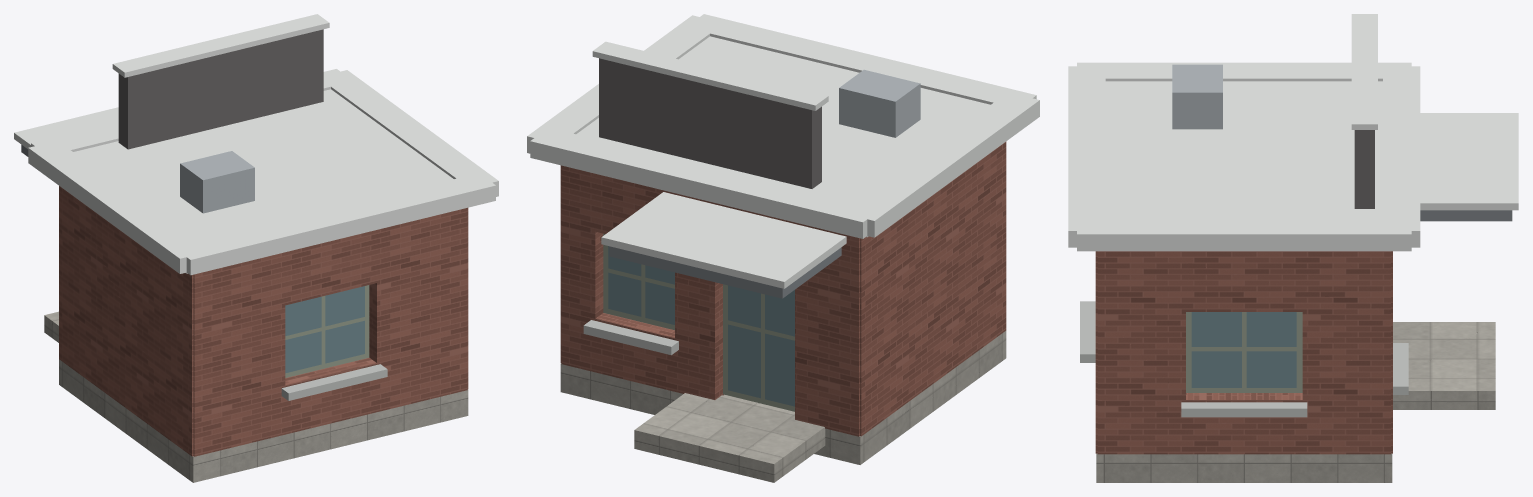
3 renders of one model, left to right at view 1: azimuth 30°, elevation 25°; view 2: azimuth 150°, elevation 25°; view 3: azimuth 270°, elevation 25°, orthographic. The views are drawn at different scales.
Parts seen in each view (by area): view 1: guard__guardbrick, guard__cap, guard__darkframe, guard__stone, guard__glass, guard__metalroof, guard__sill, guard__frame; view 2: guard__cap, guard__guardbrick, guard__darkframe, guard__threshold-front, guard__glass, guard__stone, guard__metalroof, guard__frame, guard__entrance, guard__sill; view 3: guard__cap, guard__guardbrick, guard__stone, guard__threshold-front, guard__glass, guard__sill, guard__metalroof, guard__frame, guard__darkframe, guard__entrance.
Part boxes in pixels (<box>): guard__guardbrick: <box>59,186,468,456</box>; guard__cap: <box>14,14,498,275</box>; guard__darkframe: <box>118,29,323,149</box>; guard__stone: <box>59,359,468,482</box>; guard__glass: <box>285,286,364,373</box>; guard__metalroof: <box>180,151,254,213</box>; guard__sill: <box>281,364,387,400</box>; guard__frame: <box>285,285,369,377</box>; guard__cap: <box>527,14,1039,288</box>; guard__guardbrick: <box>560,141,1006,436</box>; guard__darkframe: <box>599,58,821,188</box>; guard__threshold-front: <box>634,393,825,482</box>; guard__glass: <box>608,246,794,406</box>; guard__stone: <box>560,331,1006,464</box>; guard__metalroof: <box>839,69,920,137</box>; guard__frame: <box>603,233,794,411</box>; guard__entrance: <box>609,246,841,298</box>; guard__sill: <box>583,320,678,355</box>; guard__cap: <box>1068,14,1518,251</box>; guard__guardbrick: <box>1095,251,1392,454</box>; guard__stone: <box>1096,453,1392,482</box>; guard__threshold-front: <box>1393,322,1495,409</box>; guard__glass: <box>1191,312,1296,387</box>; guard__sill: <box>1080,301,1408,417</box>; guard__metalroof: <box>1172,64,1222,129</box>; guard__frame: <box>1186,312,1302,392</box>; guard__darkframe: <box>1354,130,1374,208</box>; guard__entrance: <box>1420,210,1512,221</box>.
Bounding box in the file's own units: 5.22 × 4.91 × 5.79.
10 materials, 2 textured.
